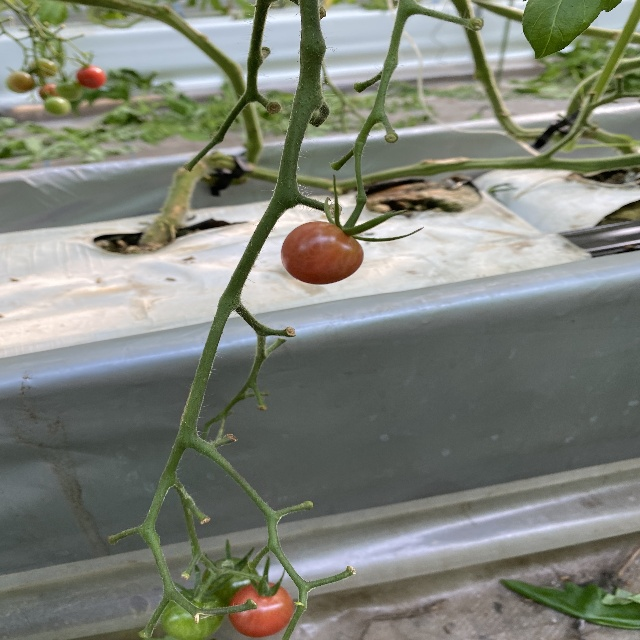l_fully_ripened: (228, 581, 296, 639)
l_green: (160, 588, 230, 639), (201, 558, 264, 607)
l_half_ripened: (281, 220, 364, 285)
